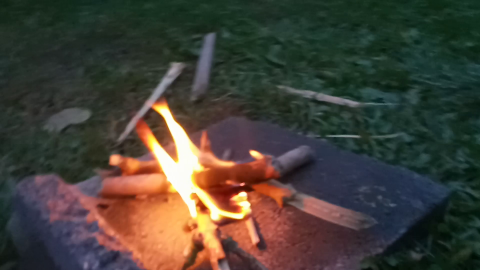fire: (130, 96, 213, 211)
